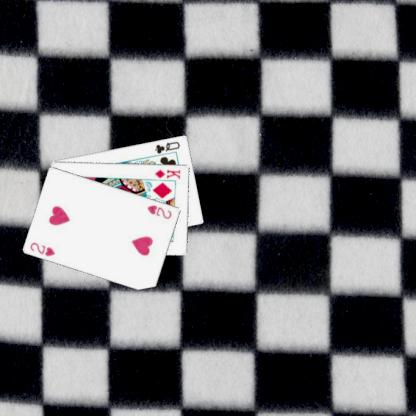2H: (27, 240, 57, 257), (145, 202, 173, 220)
KD: (152, 166, 182, 180)
QC: (153, 138, 181, 155)
